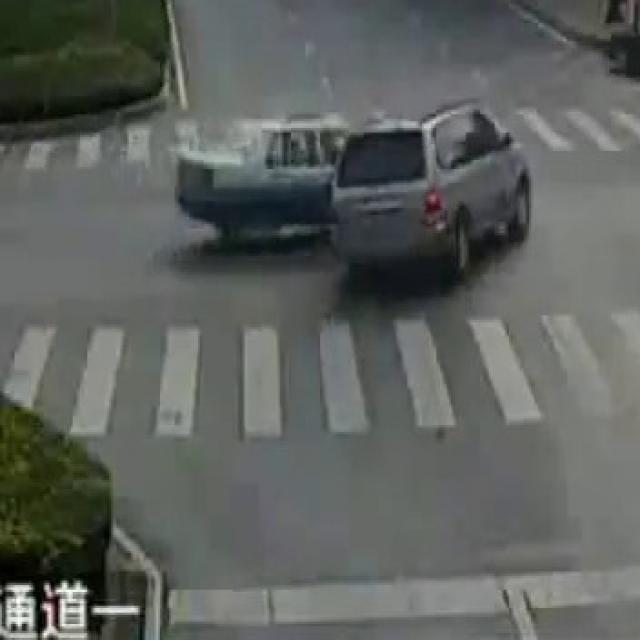accident: (163, 74, 555, 308)
